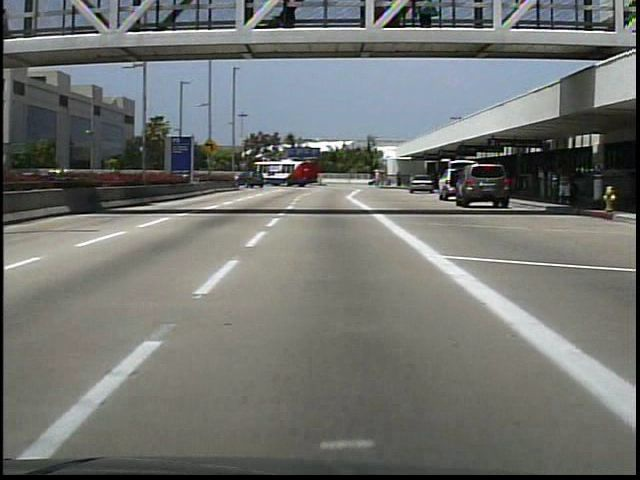person: (552, 161, 576, 209)
